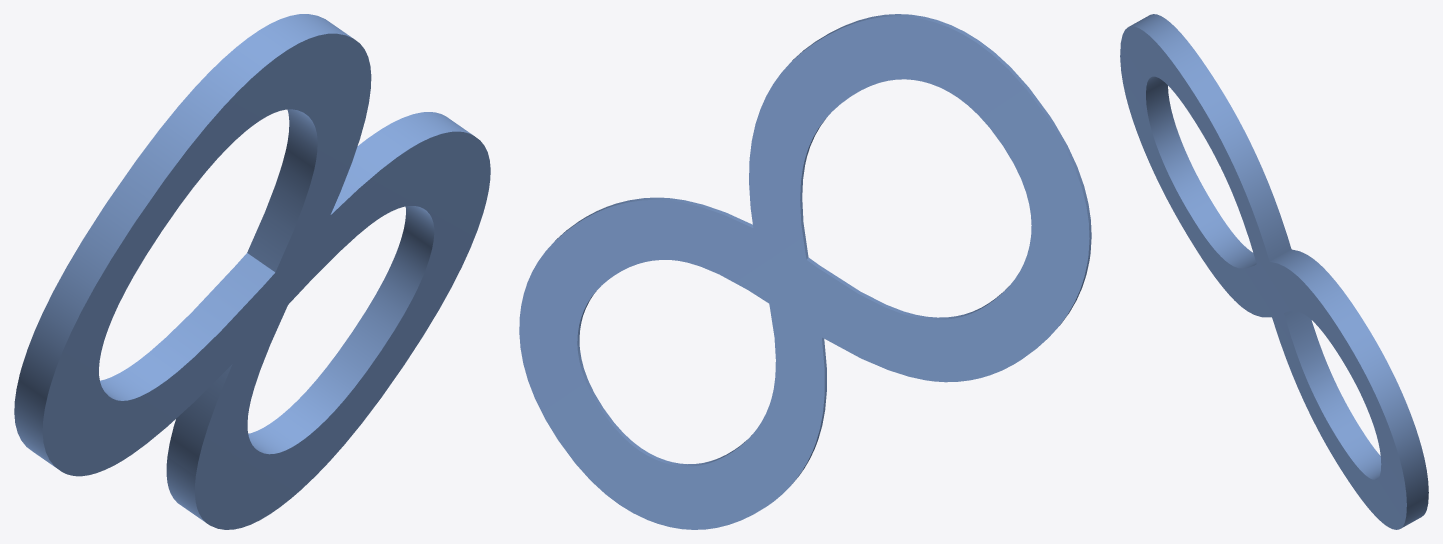
Rendered from New_Number_8.gltf.
The picture shows the model from 3 angles, left to right: view 1: azimuth 30°, elevation 25°; view 2: azimuth 150°, elevation 25°; view 3: azimuth 270°, elevation 25°; orthographic projection. The views are drawn at different scales.
Visible parts, largest first — view 1: Part 26; view 2: Part 26; view 3: Part 26.
Part boxes in pixels (<box>): Part 26: <box>14,14,490,529</box>; Part 26: <box>519,14,1091,529</box>; Part 26: <box>1120,14,1428,529</box>.
Bounding box in the file's own units: 0.00498 × 0.00484 × 0.00305.
